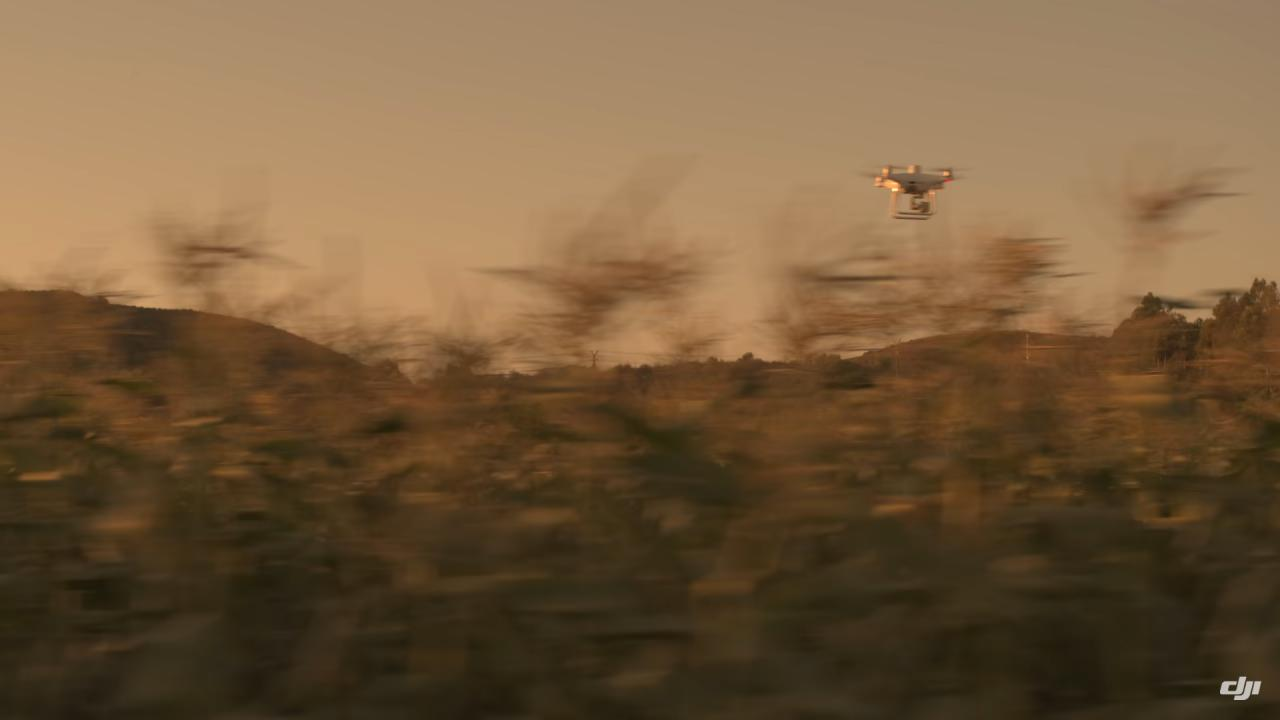Drone: (854, 148, 971, 229)
